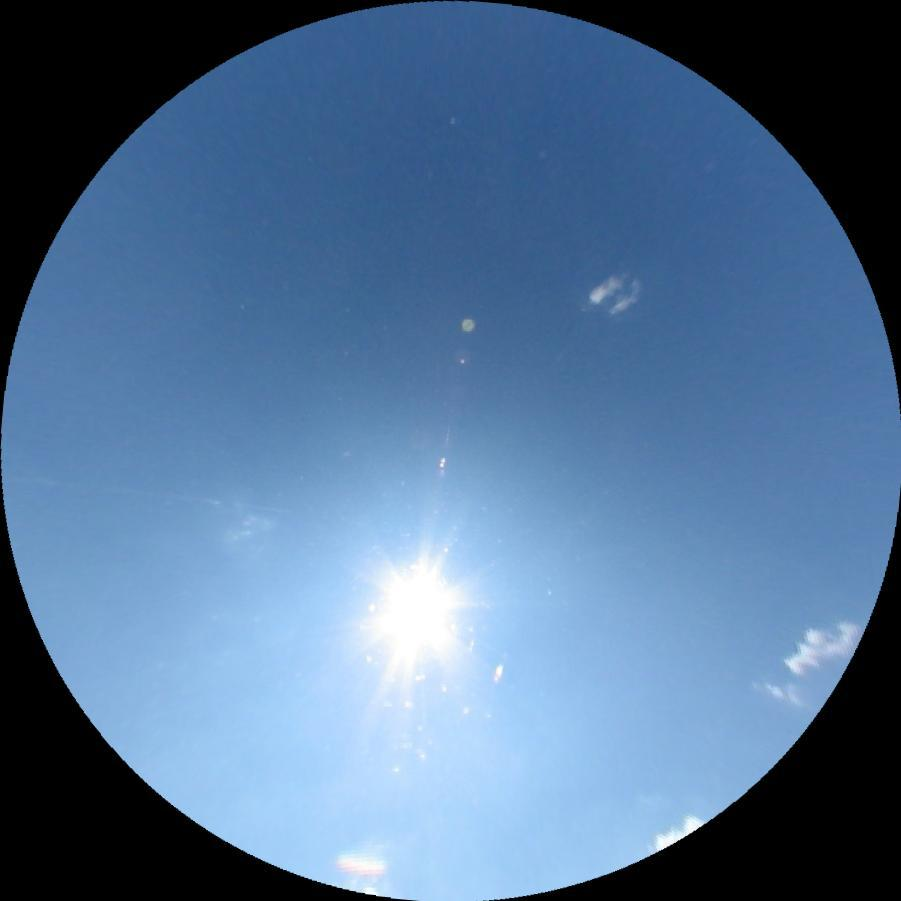parasite: (1, 473, 296, 515)
sun: (356, 552, 475, 673)
